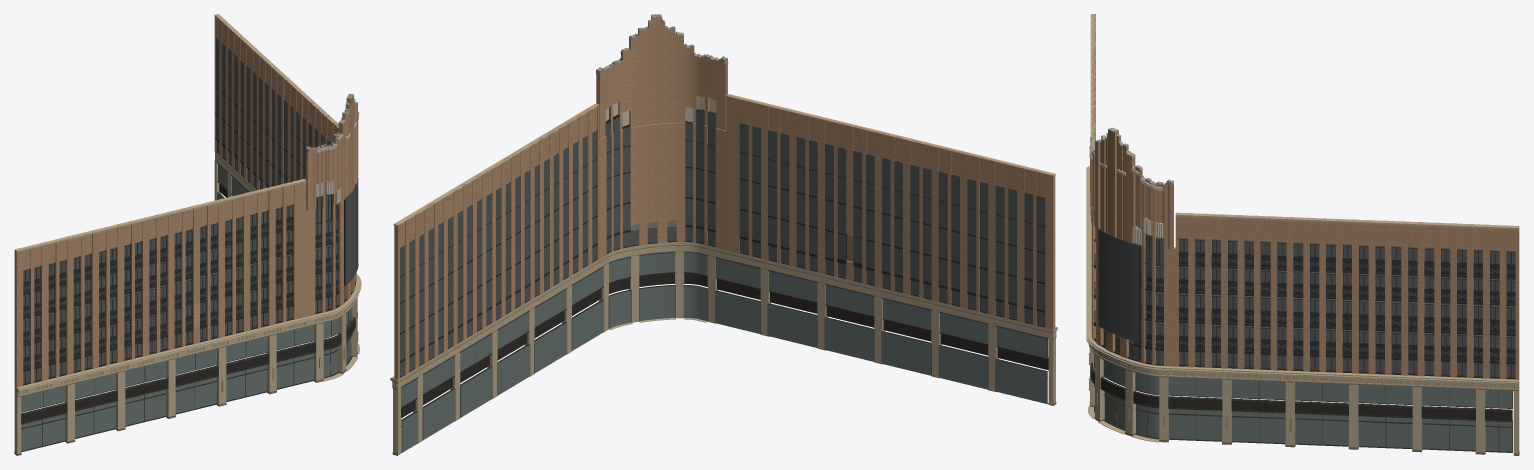
Rendered from huangpu-old-jiefu-nanjing-road-shopfront-lod.glb.
The picture shows the model from 3 angles, left to right: view 1: azimuth 30°, elevation 25°; view 2: azimuth 150°, elevation 25°; view 3: azimuth 270°, elevation 25°; orthographic projection. The views are drawn at different scales.
Parts seen in each view (by area): view 1: 老介福北西街面与退台砖塔冠; view 2: 老介福北西街面与退台砖塔冠; view 3: 老介福北西街面与退台砖塔冠.
Boxes of the visible parts, bbox=[...] form: 老介福北西街面与退台砖塔冠: bbox=[14, 14, 361, 455]; 老介福北西街面与退台砖塔冠: bbox=[390, 14, 1057, 455]; 老介福北西街面与退台砖塔冠: bbox=[1086, 14, 1519, 455].
Size of the model in its own units: 55.98 by 36.11 by 47.45.
20 materials, 1 textured.
